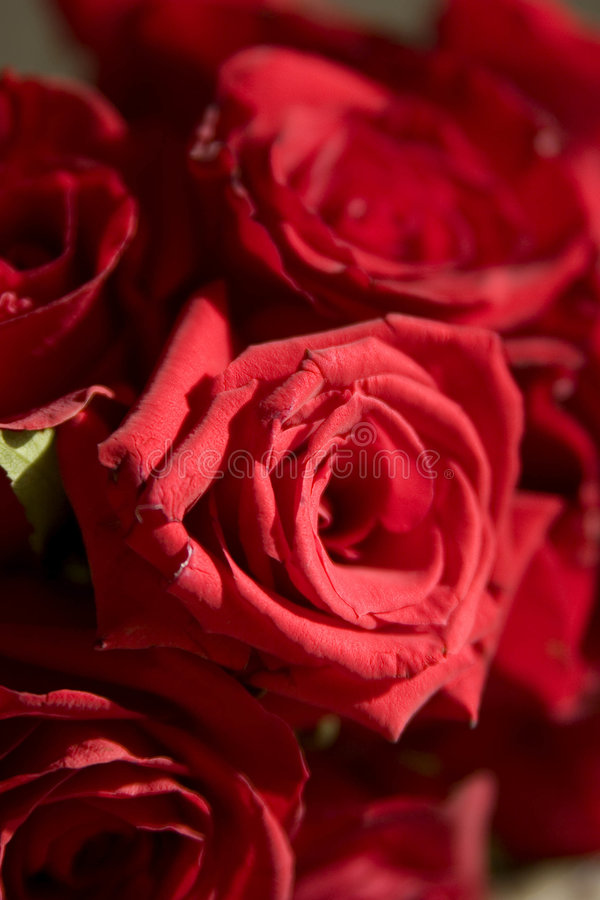RedRose: (100, 287, 509, 731)
